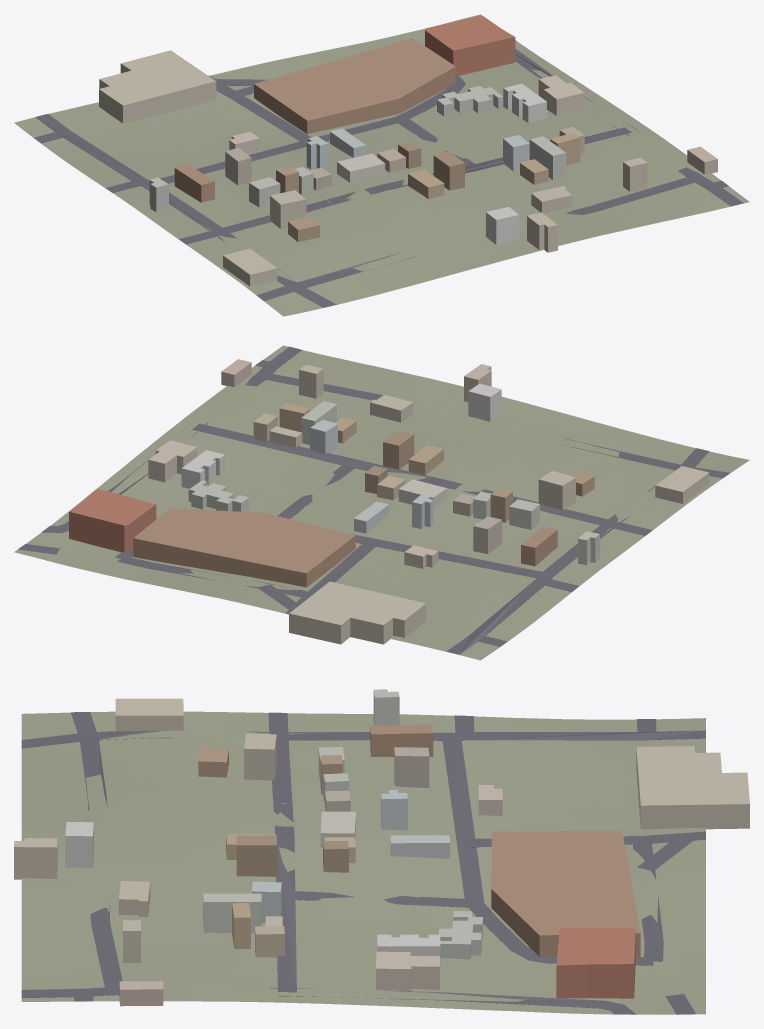
The model's file is chunk_8_7.glb.
3 views of the same model, one above another, from view 1: azimuth 30°, elevation 25°; view 2: azimuth 150°, elevation 25°; view 3: azimuth 270°, elevation 25° (orthographic). The views are drawn at different scales.
Parts seen in each view (by area): view 1: geometry_35, geometry_1, geometry_0, geometry_34, geometry_43, geometry_49, geometry_2, geometry_3, geometry_29, geometry_38, geometry_7, geometry_50 (+26 smaller); view 2: geometry_35, geometry_1, geometry_0, geometry_34, geometry_49, geometry_36, geometry_2, geometry_29, geometry_43, geometry_3, geometry_38, geometry_26 (+25 smaller); view 3: geometry_35, geometry_1, geometry_0, geometry_34, geometry_49, geometry_46, geometry_43, geometry_40, geometry_29, geometry_2, geometry_38, geometry_45 (+27 smaller).
Boxes of the visible parts, box(x1,y1,x2,y2) form: geometry_35: box(14, 14, 749, 316); geometry_1: box(254, 38, 455, 134); geometry_0: box(99, 50, 216, 123); geometry_34: box(425, 15, 515, 75); geometry_43: box(291, 175, 700, 289); geometry_49: box(216, 127, 631, 234); geometry_2: box(223, 248, 277, 286); geometry_3: box(437, 86, 503, 116); geometry_29: box(538, 75, 584, 115); geometry_38: box(35, 114, 147, 183); geometry_7: box(503, 83, 546, 122); geometry_50: box(169, 192, 336, 307); geometry_35: box(14, 345, 749, 660); geometry_1: box(133, 508, 355, 587); geometry_0: box(289, 581, 426, 644); geometry_34: box(69, 488, 156, 552); geometry_49: box(192, 423, 613, 526); geometry_36: box(117, 540, 378, 597); geometry_2: box(655, 466, 709, 503); geometry_29: box(148, 440, 197, 482); geometry_43: box(260, 372, 687, 470); geometry_3: box(188, 480, 248, 511); geometry_38: box(446, 579, 548, 654); geometry_26: box(538, 471, 575, 510); geometry_35: box(21, 711, 705, 1014); geometry_1: box(491, 830, 640, 957); geometry_0: box(636, 746, 749, 829); geometry_34: box(556, 928, 635, 998); geometry_49: box(272, 736, 296, 992); geometry_46: box(457, 843, 653, 965); geometry_43: box(79, 736, 122, 991); geometry_40: box(21, 987, 635, 1014); geometry_29: box(376, 951, 439, 991); geometry_2: box(115, 698, 183, 731); geometry_38: box(464, 730, 705, 740); geometry_45: box(443, 747, 475, 842).
Size of the model in its own units: 254 by 19.44 by 269.
